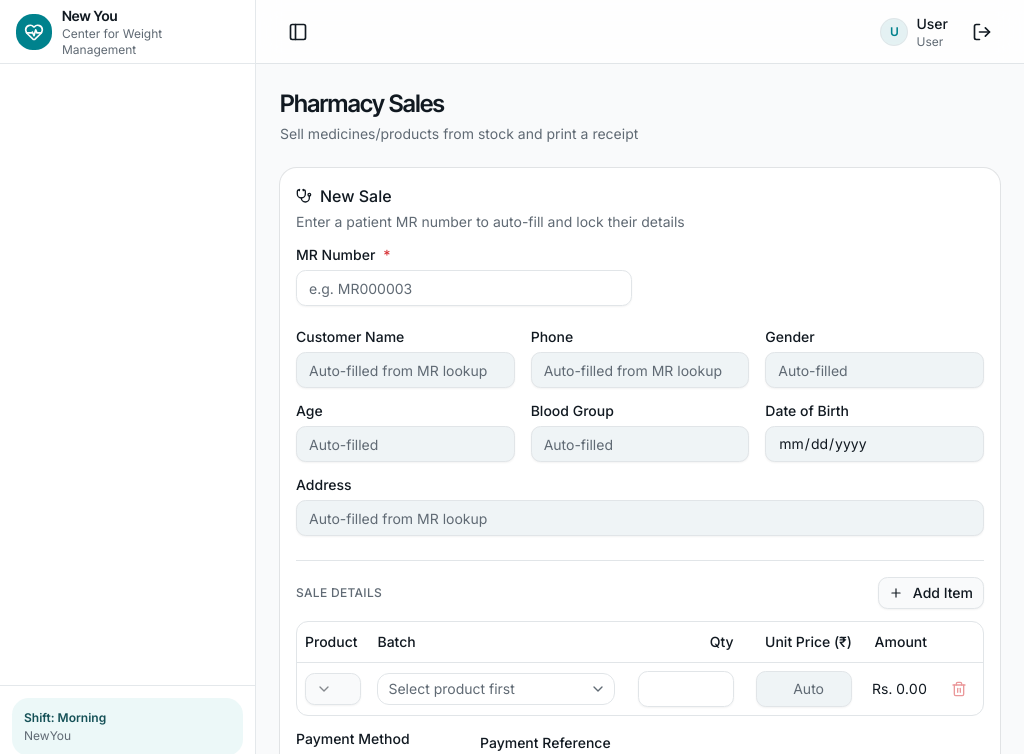
Test: PharmacySalesPage › selecting a patient auto-fills and locks the detail fields
Type "MR000001" into the field with placeholder "e.g. MR000003". click: (464, 288)
box: [296,270,632,306]
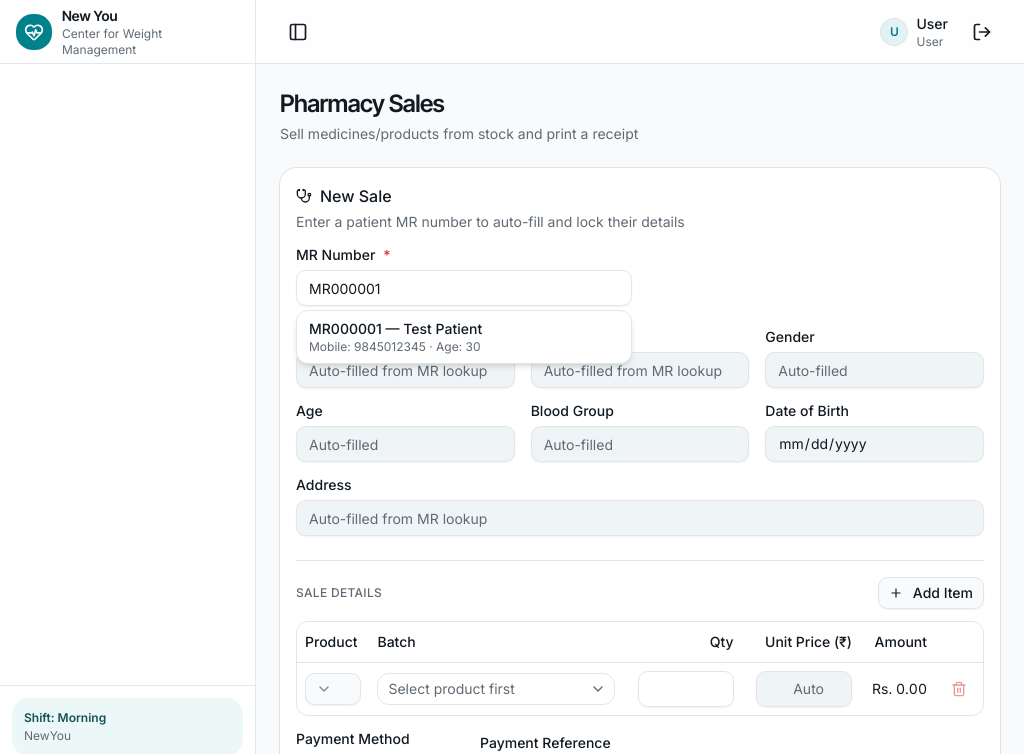
Click the text "MR000001 — Test Patient". click: (345, 328)
box: [309,320,482,337]
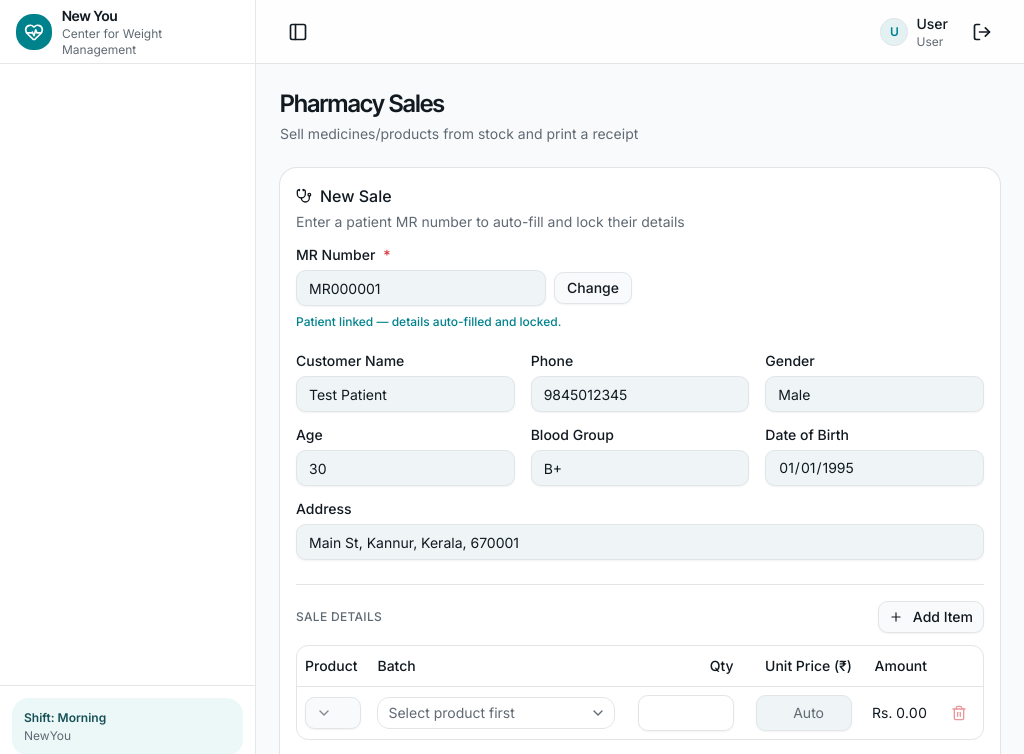
Expected: the field showing "Test Patient" is shown, [296,376,515,412]
Expected: the text "Patient linked — details auto-filled and locked." is shown, [296,314,561,329]
